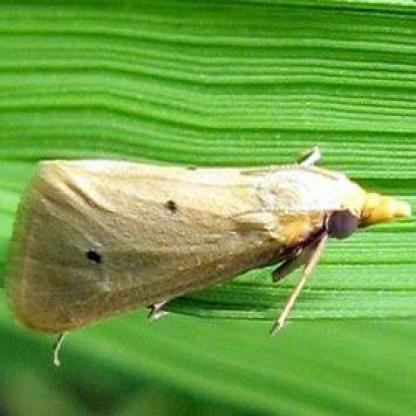stem-borer: (0, 151, 416, 352)
